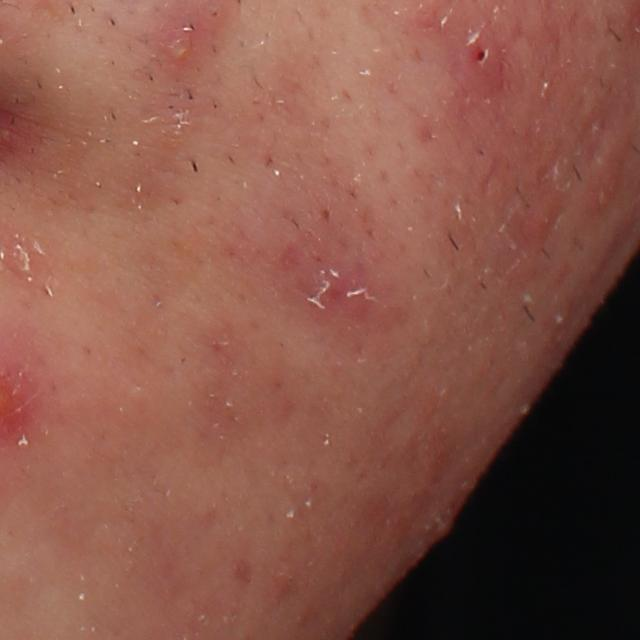papule: (459, 17, 504, 81)
pustule: (157, 12, 207, 67)
